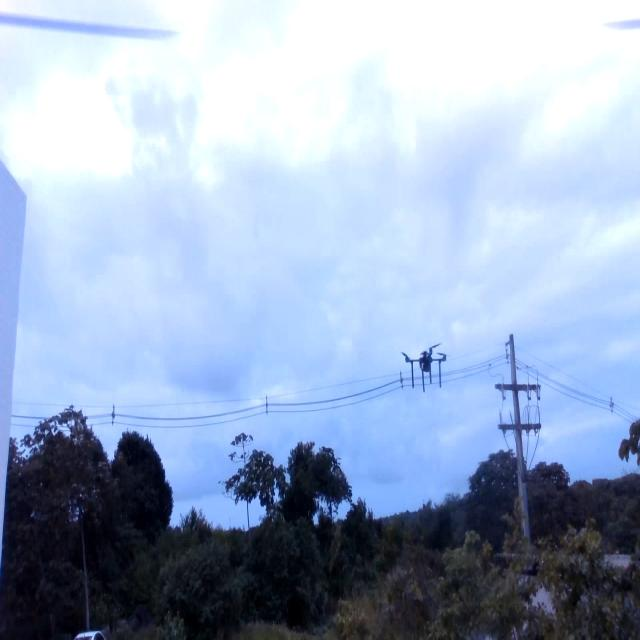-uav-: (394, 329, 454, 404)
